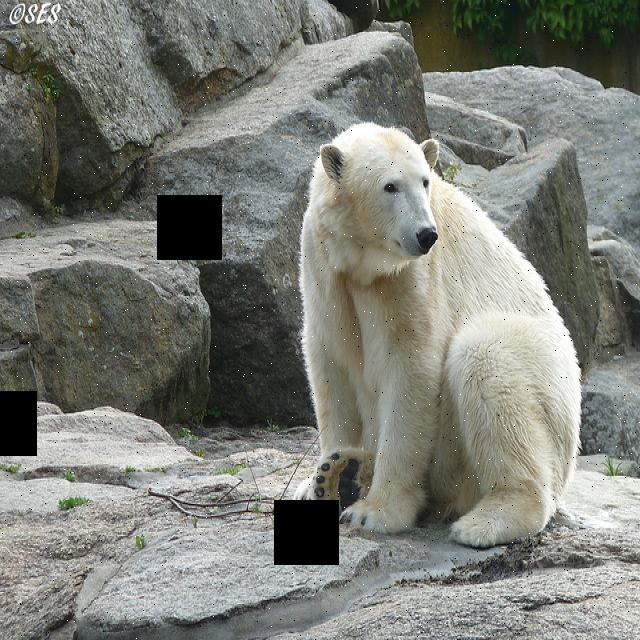Bear: (284, 111, 583, 552)
